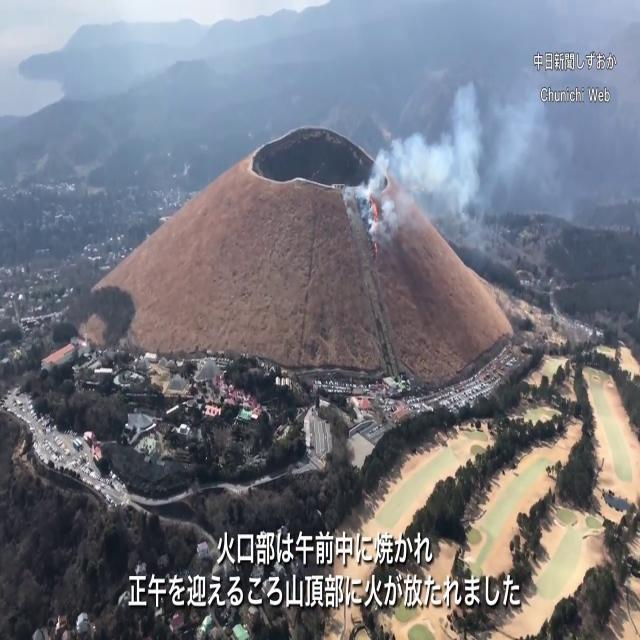Smoke: (353, 68, 544, 235)
